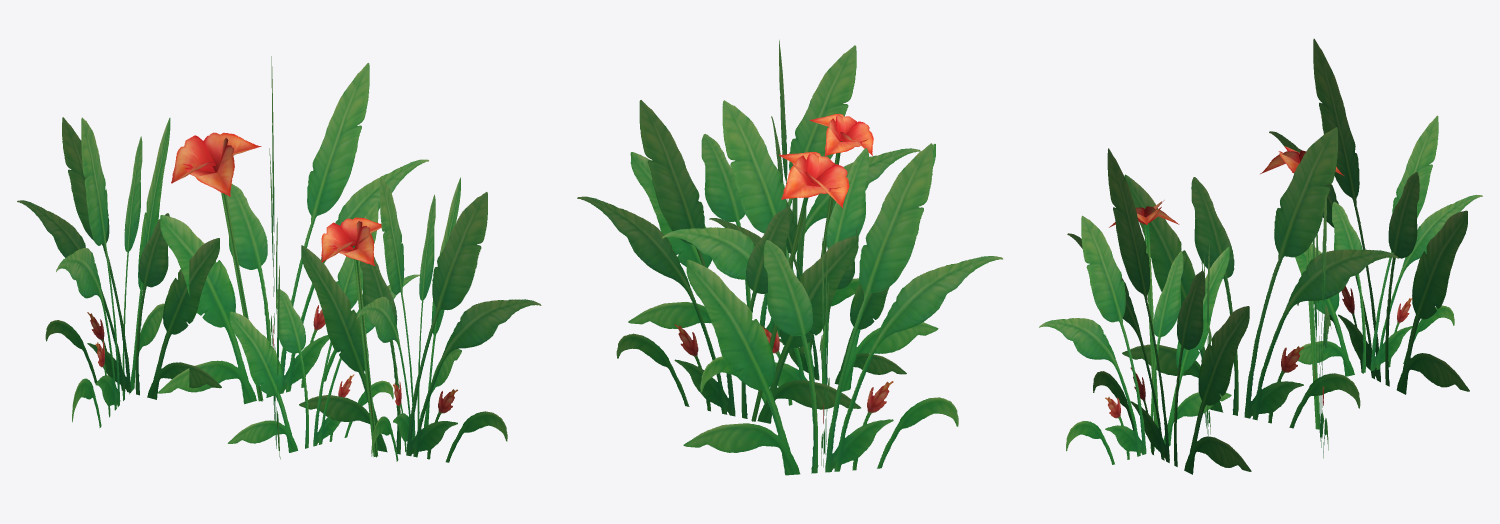
The model's file is area_06_14.fbx.
The picture shows the model from 3 angles, left to right: view 1: azimuth 30°, elevation 25°; view 2: azimuth 150°, elevation 25°; view 3: azimuth 270°, elevation 25°; orthographic projection. The views are drawn at different scales.
Visible parts, largest first — view 1: area_06_14; view 2: area_06_14; view 3: area_06_14.
Boxes of the visible parts, x1,y1,x2,y2 form: area_06_14: (17,56,541,462); area_06_14: (577,40,1002,475); area_06_14: (1039,38,1482,474).
Size of the model in its own units: 1.99 by 1.55 by 2.
